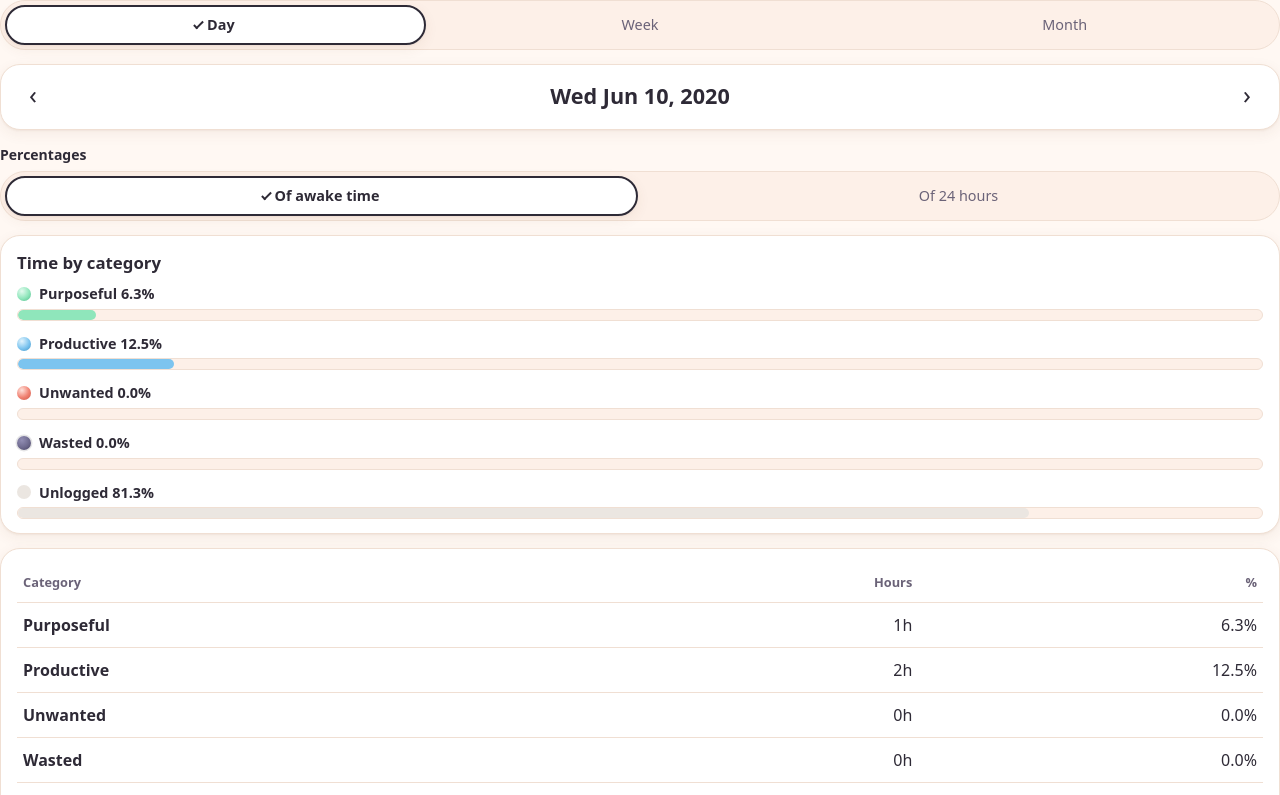
StatsView › shows hours and percentages and toggles the basis
This screenshot has width=1280, height=795.
Expected: the row "Productive 2h 12.5%" is shown, [17,648,1263,693]
Expected: the row "Purposeful 1h 6.3%" is shown, [17,603,1263,648]
Step 1. Click the radio button labelled "Of 24 hours" → (959, 196), box [919,186,998,205]
(page scrolled)
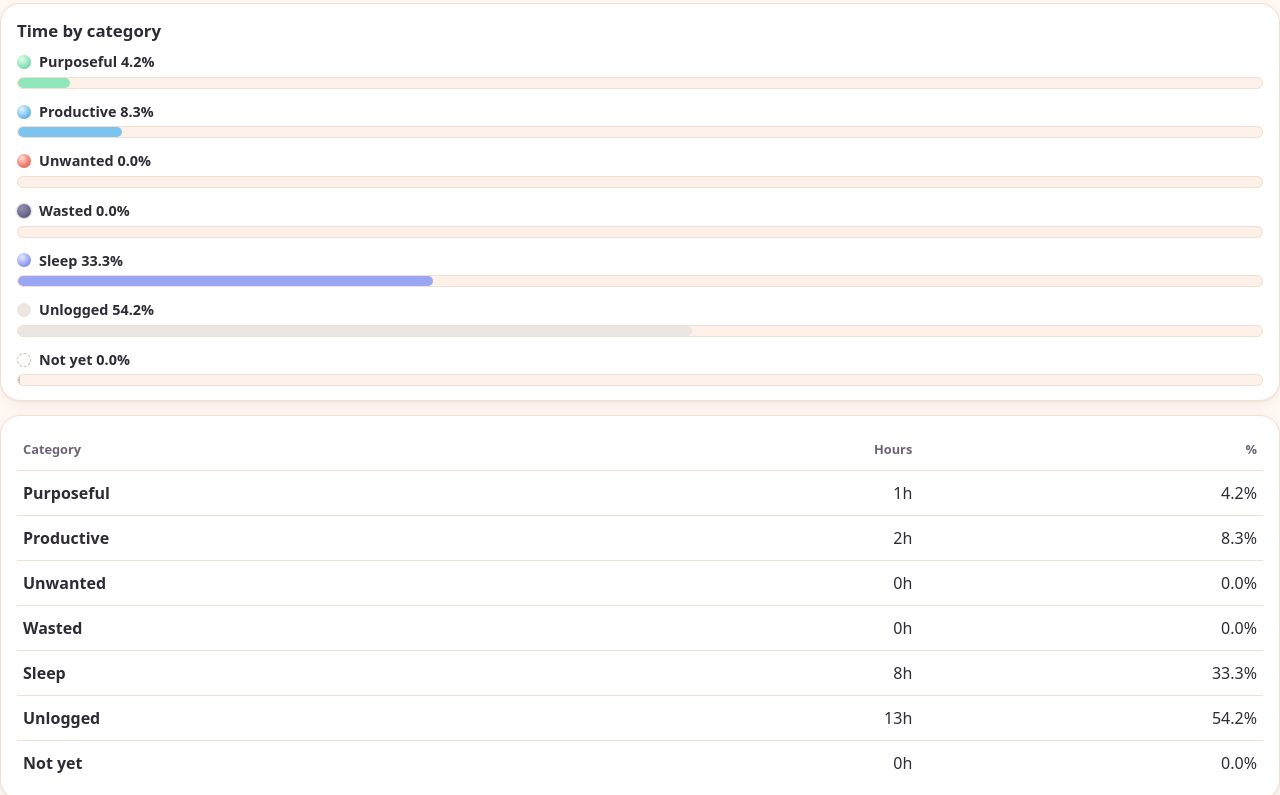
Expected: the row "Productive 2h 8.3%" is shown, [17,515,1263,560]
Expected: the row "Purposeful 1h 4.2%" is shown, [17,470,1263,515]
Expected: the row "Sleep 8h 33.3%" is shown, [17,650,1263,695]
